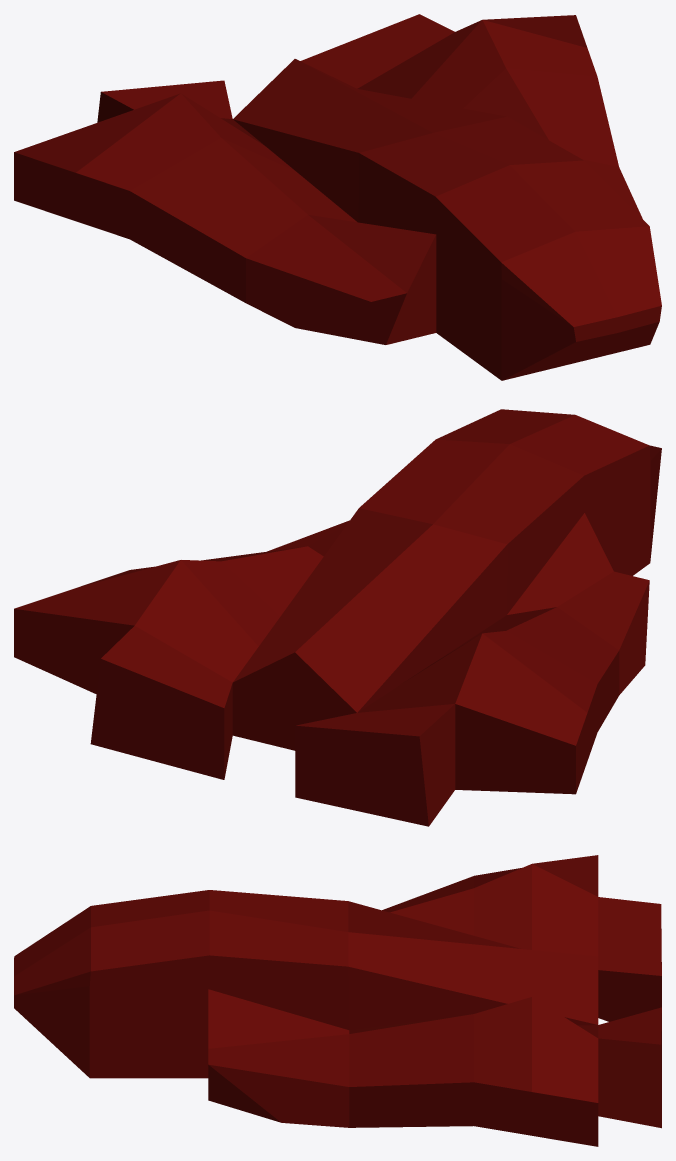
Rendered from ship_v1.obj.
3 renders of one model, top to bottom at view 1: azimuth 30°, elevation 25°; view 2: azimuth 150°, elevation 25°; view 3: azimuth 270°, elevation 25°, orthographic. The views are drawn at different scales.
Visible parts, largest first — view 1: Cube; view 2: Cube; view 3: Cube.
Part boxes in pixels (x1,y1,x2,y2): Cube: (14, 14, 661, 380); Cube: (14, 409, 661, 826); Cube: (14, 855, 661, 1146).
Size of the model in its own units: 3.01 by 0.8277 by 3.32.
